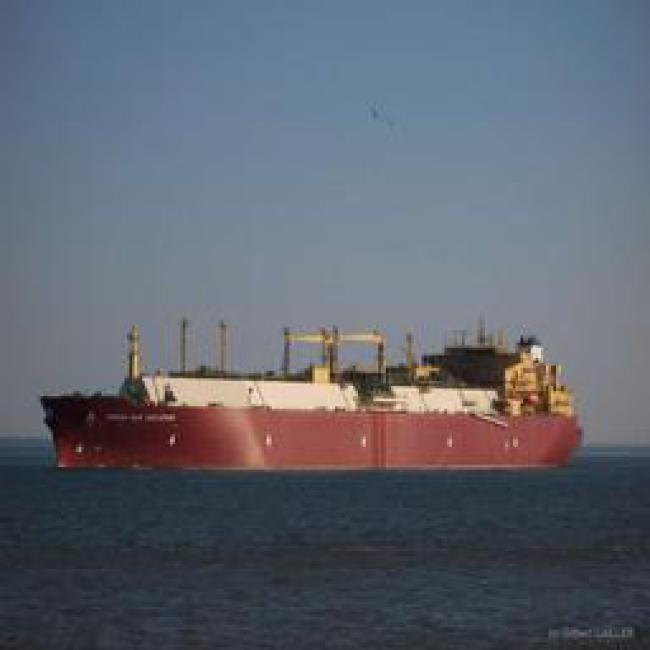Ship: (13, 326, 589, 479)
